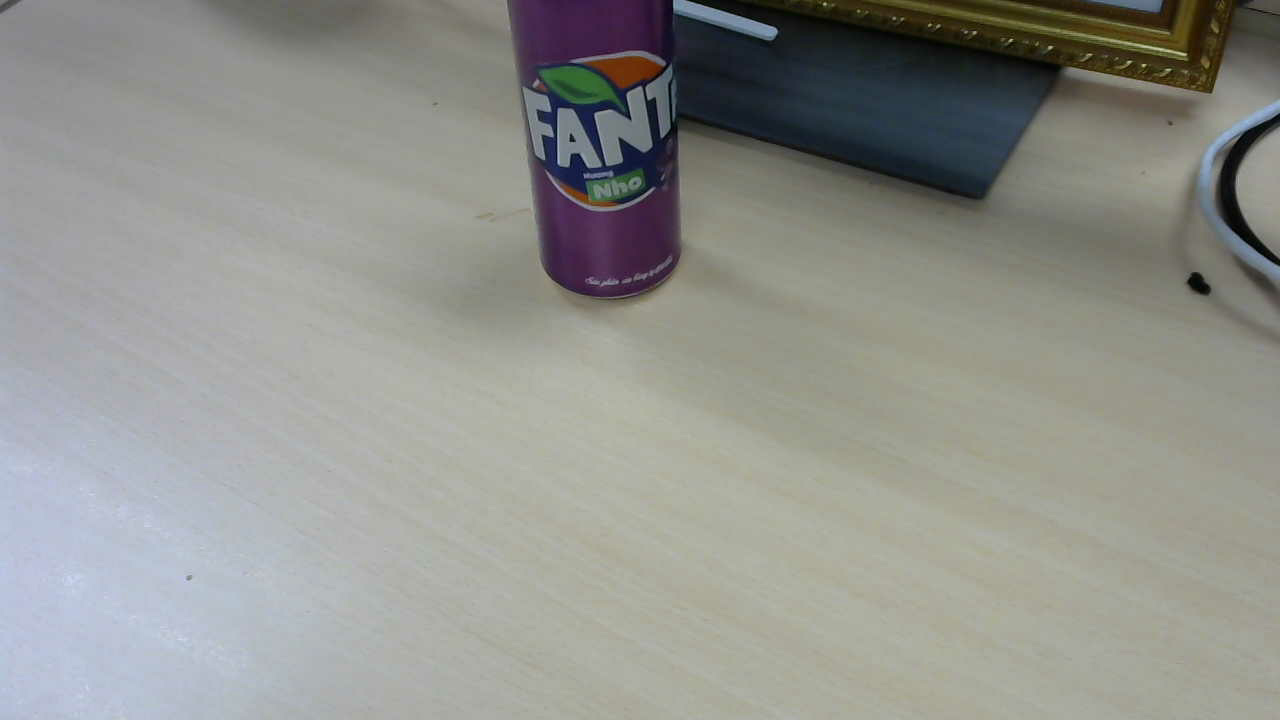Fanta: (511, 4, 690, 306)
